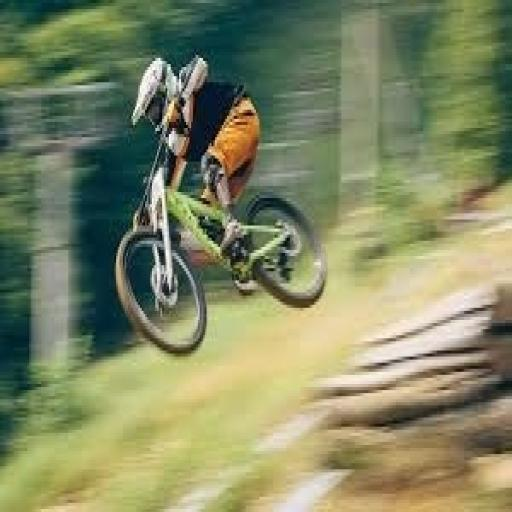cycling: (130, 48, 264, 298)
